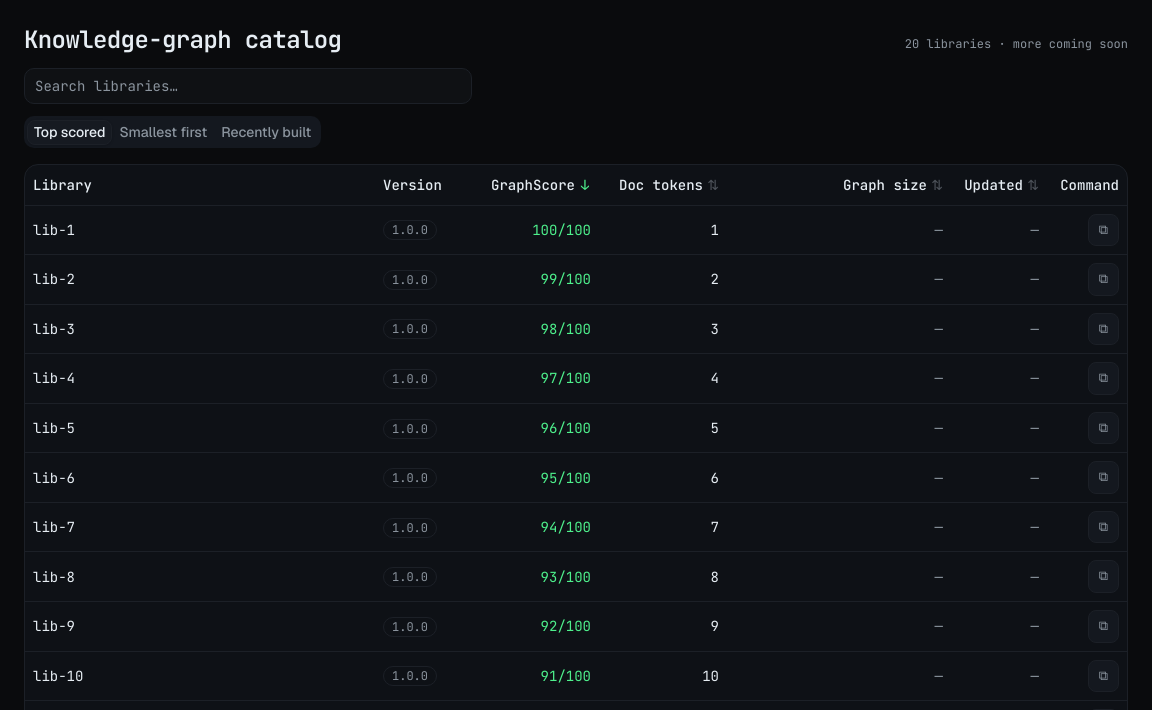
CatalogSection — pagination (15 per page) › reports the match count next to the search box, only while searching
Expected: the text "lib-1" is shown, top-left (33, 221), bottom-right (75, 239)
Expected: the text "20 libraries · more coming soon" is shown, top-left (905, 36), bottom-right (1128, 52)
In the field labelled "Search libraries": (248,86) top-left (24, 68), bottom-right (472, 104), type "lib-2"
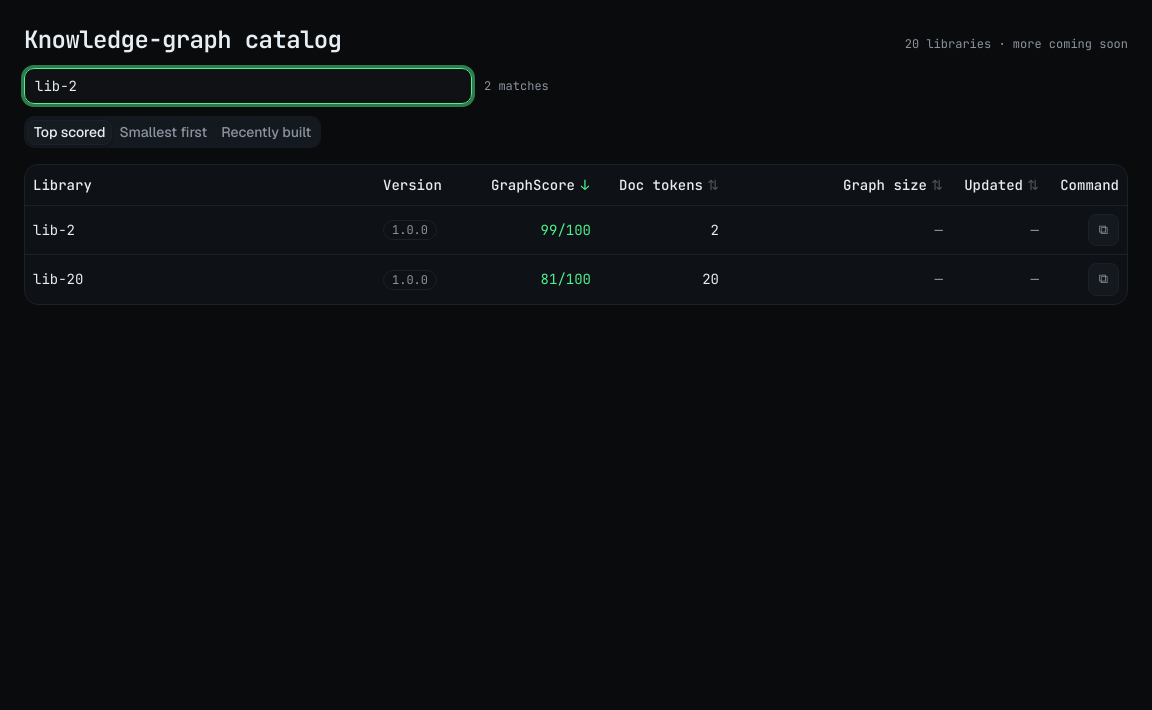
Expected: the text "20 libraries · more coming soon" is shown, top-left (905, 36), bottom-right (1128, 52)
Now the text "2 matches" is shown, box top-left (484, 78), bottom-right (549, 94)
